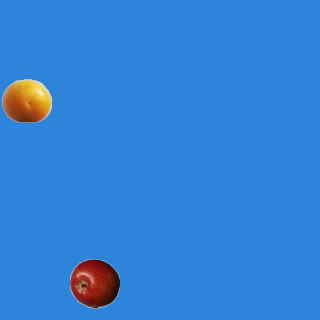Apple Braeburn: (69, 258, 119, 308)
Cherry Wax Yellow: (1, 75, 51, 125)
